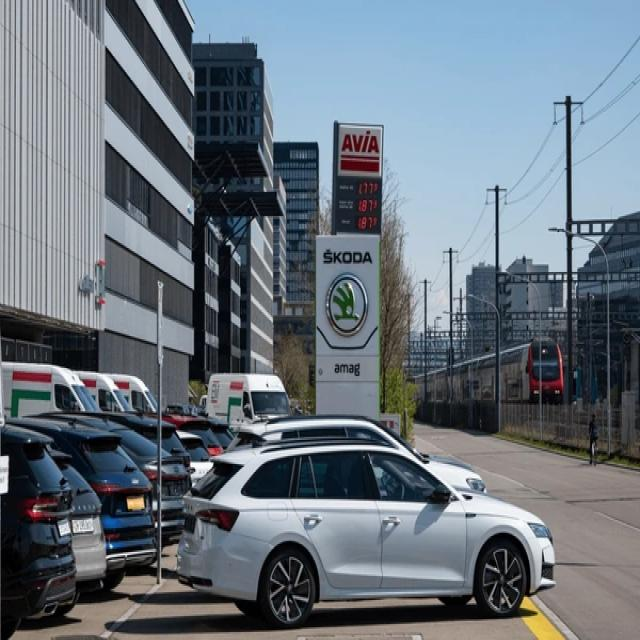skoda: (322, 275, 372, 336)
